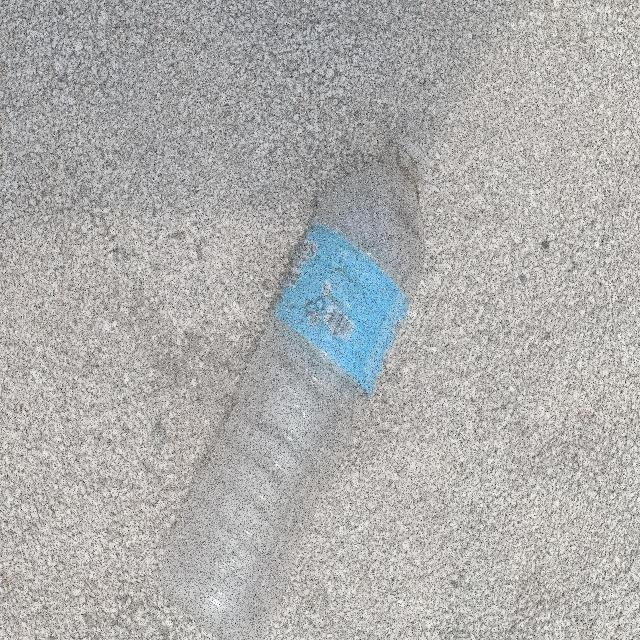plastic_waste: (162, 133, 431, 640)
